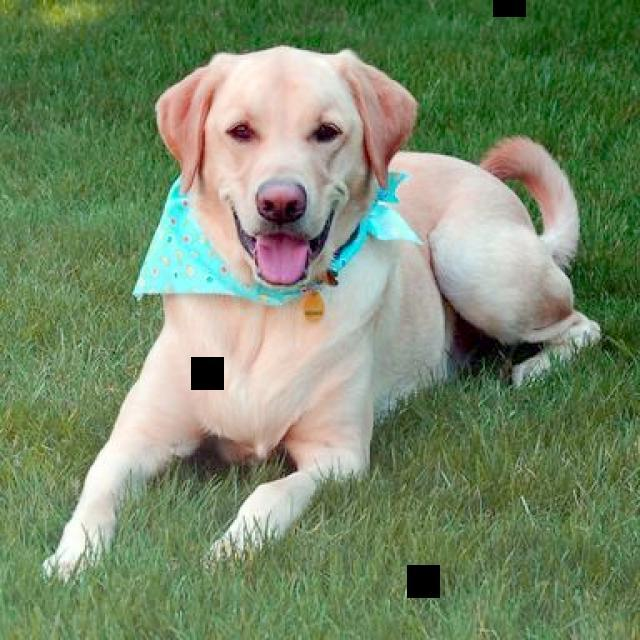adult_dog: (43, 38, 604, 585)
